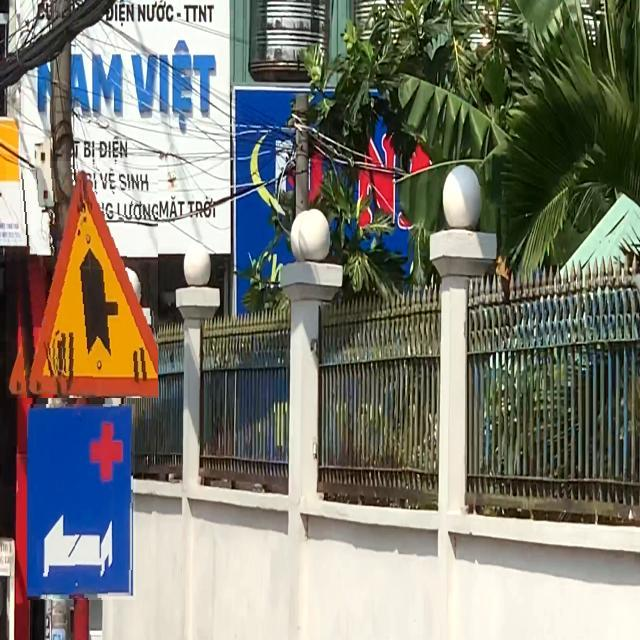R-425: (28, 404, 136, 600)
W-207b: (6, 161, 158, 398)
